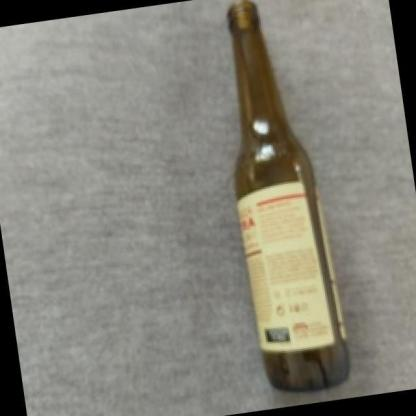Can: (226, 0, 350, 393)
